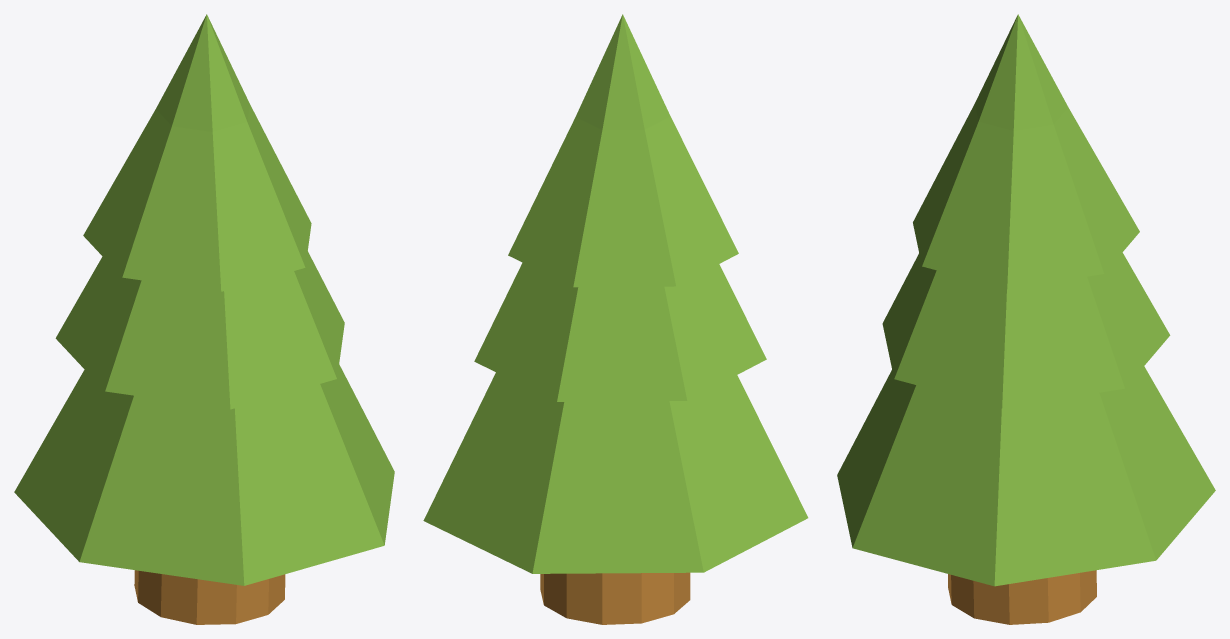
Rendered from tree_17_mesh1958235271.glb.
3 views of the same model, side by side, from view 1: azimuth 30°, elevation 25°; view 2: azimuth 150°, elevation 25°; view 3: azimuth 270°, elevation 25° (orthographic).
Parts seen in each view (by area): view 1: part_2_mesh1958235271_1, part_1_mesh1958235271; view 2: part_2_mesh1958235271_1, part_1_mesh1958235271; view 3: part_2_mesh1958235271_1, part_1_mesh1958235271.
Part boxes in pixels (bbox=[...]): part_2_mesh1958235271_1: bbox=[14, 14, 394, 585]; part_1_mesh1958235271: bbox=[134, 570, 285, 624]; part_2_mesh1958235271_1: bbox=[423, 14, 808, 573]; part_1_mesh1958235271: bbox=[540, 572, 690, 624]; part_2_mesh1958235271_1: bbox=[837, 14, 1215, 586]; part_1_mesh1958235271: bbox=[948, 570, 1096, 624].
Size of the model in its own units: 0.2266 by 0.3793 by 0.2255.
